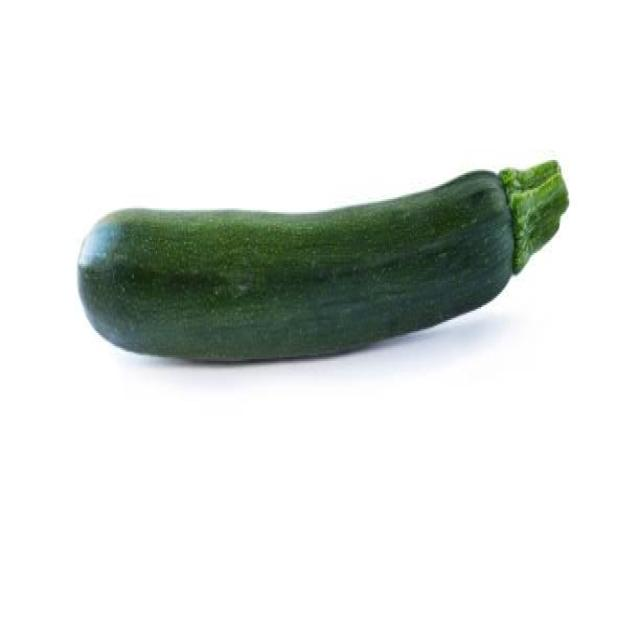Courgette: (78, 160, 568, 361)
